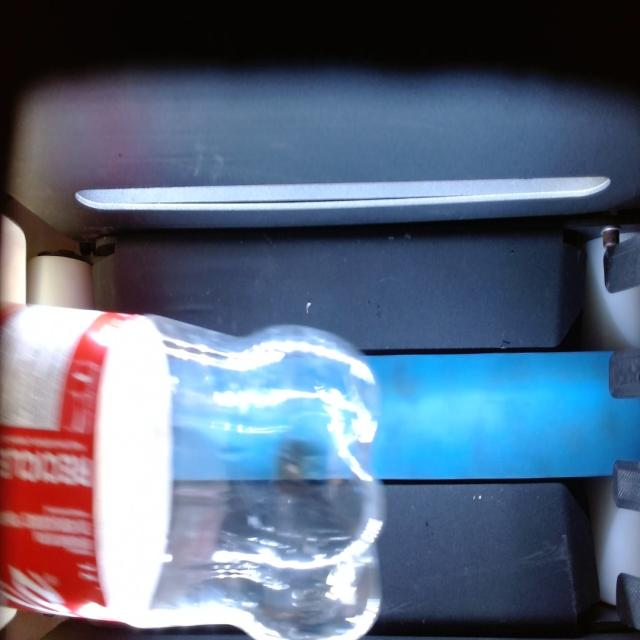bottom: (151, 318, 385, 638)
label: (0, 304, 172, 627)
